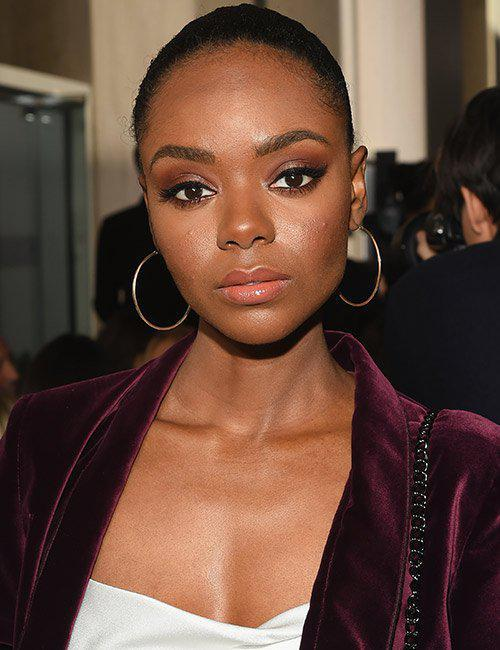Sober: (152, 55, 347, 329)
